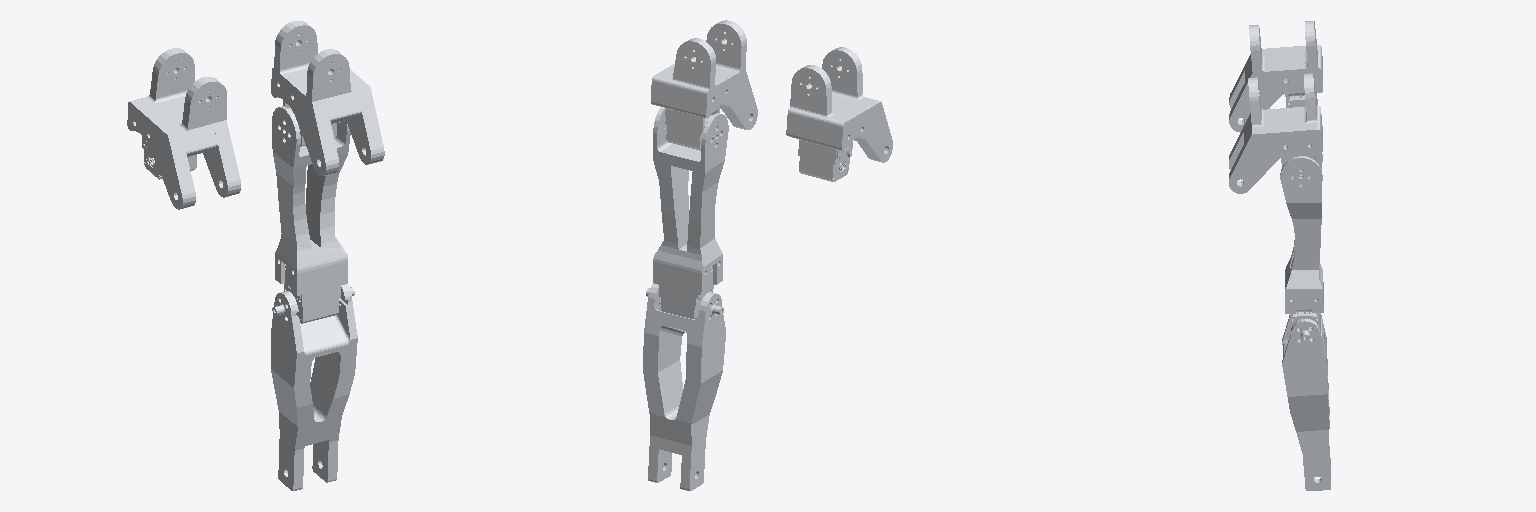
URDF robot description (LegAssemb):
<?xml version="1.0" encoding="utf-8"?>
<!-- This URDF was automatically created by SolidWorks to URDF Exporter! Originally created by [author] ([email redacted]) 
     Commit Version: 1.6.0-4-g7f85cfe  Build Version: 1.6.7995.38578
     For more information, please see http://wiki.ros.org/sw_urdf_exporter -->
<robot
  name="LegAssemb">
  <link
    name="base_link">
    <inertial>
      <origin
        xyz="0.20863304193815 0.0692641832716312 0.0477667457964067"
        rpy="0 0 0" />
      <mass
        value="1.03430056883378" />
      <inertia
        ixx="0.000426202931707901"
        ixy="-6.37572571128734E-08"
        ixz="7.59328755496436E-07"
        iyy="0.000441208001518973"
        iyz="-3.35829294154745E-06"
        izz="0.000480922227947212" />
    </inertial>
    <visual>
      <origin
        xyz="0 0 0"
        rpy="0 0 0" />
      <geometry>
        <mesh
          filename="package://LegAssemb/meshes/base_link.STL" />
      </geometry>
      <material
        name="">
        <color
          rgba="0.537254901960784 0.349019607843137 0.337254901960784 1" />
      </material>
    </visual>
    <collision>
      <origin
        xyz="0 0 0"
        rpy="0 0 0" />
      <geometry>
        <mesh
          filename="package://LegAssemb/meshes/base_link.STL" />
      </geometry>
    </collision>
  </link>
  <link
    name="Rhip">
    <inertial>
      <origin
        xyz="0.0074338003427552 -0.03242460499818 -0.0413705809848454"
        rpy="0 0 0" />
      <mass
        value="0.791055479855578" />
      <inertia
        ixx="0.000581069817188938"
        ixy="3.12546765976489E-05"
        ixz="-1.06166101215604E-05"
        iyy="0.000520936540159175"
        iyz="0.000131765521570148"
        izz="0.000403166157498855" />
    </inertial>
    <visual>
      <origin
        xyz="0 0 0"
        rpy="0 0 0" />
      <geometry>
        <mesh
          filename="package://LegAssemb/meshes/Rhip.STL" />
      </geometry>
      <material
        name="">
        <color
          rgba="0.894117647058823 0.913725490196078 0.929411764705882 1" />
      </material>
    </visual>
    <collision>
      <origin
        xyz="0 0 0"
        rpy="0 0 0" />
      <geometry>
        <mesh
          filename="package://LegAssemb/meshes/Rhip.STL" />
      </geometry>
    </collision>
  </link>
  <joint
    name="Rhipjoint"
    type="revolute">
    <origin
      xyz="0.25863 0.019512 0.043363"
      rpy="1.6546 -0.010502 -0.0008818" />
    <parent
      link="base_link" />
    <child
      link="Rhip" />
    <axis
      xyz="0 0 1" />
    <limit
      lower="0"
      upper="0"
      effort="0"
      velocity="0" />
  </joint>
  <link
    name="Rthigh">
    <inertial>
      <origin
        xyz="0.00769763457059242 -0.0627833558542452 -0.00175255976281827"
        rpy="0 0 0" />
      <mass
        value="0.712335305464064" />
      <inertia
        ixx="0.000983959344200403"
        ixy="-4.25123957402627E-06"
        ixz="-3.6167341359152E-07"
        iyy="0.000181029415635686"
        iyz="1.04992326956344E-05"
        izz="0.00106202448686337" />
    </inertial>
    <visual>
      <origin
        xyz="0 0 0"
        rpy="0 0 0" />
      <geometry>
        <mesh
          filename="package://LegAssemb/meshes/Rthigh.STL" />
      </geometry>
      <material
        name="">
        <color
          rgba="0.894117647058823 0.913725490196078 0.929411764705882 1" />
      </material>
    </visual>
    <collision>
      <origin
        xyz="0 0 0"
        rpy="0 0 0" />
      <geometry>
        <mesh
          filename="package://LegAssemb/meshes/Rthigh.STL" />
      </geometry>
    </collision>
  </link>
  <joint
    name="Rthighjoint"
    type="revolute">
    <origin
      xyz="0 -0.063879 -0.05994"
      rpy="-0.064356 0 0" />
    <parent
      link="Rhip" />
    <child
      link="Rthigh" />
    <axis
      xyz="1 0 0" />
    <limit
      lower="0"
      upper="0"
      effort="0"
      velocity="0" />
  </joint>
  <link
    name="Rshank">
    <inertial>
      <origin
        xyz="0.00990000014913311 -0.0634251797510051 0.00121806422284944"
        rpy="0 0 0" />
      <mass
        value="0.971159074392089" />
      <inertia
        ixx="0.00143380462653115"
        ixy="-1.4053596770111E-11"
        ixz="2.5384569405794E-11"
        iyy="0.000326466882017216"
        iyz="-1.21406567523206E-05"
        izz="0.00160808162772235" />
    </inertial>
    <visual>
      <origin
        xyz="0 0 0"
        rpy="0 0 0" />
      <geometry>
        <mesh
          filename="package://LegAssemb/meshes/Rshank.STL" />
      </geometry>
      <material
        name="">
        <color
          rgba="0.894117647058823 0.913725490196078 0.929411764705882 1" />
      </material>
    </visual>
    <collision>
      <origin
        xyz="0 0 0"
        rpy="0 0 0" />
      <geometry>
        <mesh
          filename="package://LegAssemb/meshes/Rshank.STL" />
      </geometry>
    </collision>
  </link>
  <joint
    name="Rshankjoint"
    type="revolute">
    <origin
      xyz="0 -0.14107 -0.0005"
      rpy="0.056452 0 0" />
    <parent
      link="Rthigh" />
    <child
      link="Rshank" />
    <axis
      xyz="1 0 0" />
    <limit
      lower="0"
      upper="0"
      effort="0"
      velocity="0" />
  </joint>
  <link
    name="Lhip">
    <inertial>
      <origin
        xyz="0.00748818071289314 -0.0324246050220238 0.041370668212364"
        rpy="0 0 0" />
      <mass
        value="0.791055476960042" />
      <inertia
        ixx="0.000581069816124814"
        ixy="3.12546762715253E-05"
        ixz="1.06166686901471E-05"
        iyy="0.000520936538406736"
        iyz="-0.000131765341329327"
        izz="0.000403166156815968" />
    </inertial>
    <visual>
      <origin
        xyz="0 0 0"
        rpy="0 0 0" />
      <geometry>
        <mesh
          filename="package://LegAssemb/meshes/Lhip.STL" />
      </geometry>
      <material
        name="">
        <color
          rgba="0.894117647058823 0.913725490196078 0.929411764705882 1" />
      </material>
    </visual>
    <collision>
      <origin
        xyz="0 0 0"
        rpy="0 0 0" />
      <geometry>
        <mesh
          filename="package://LegAssemb/meshes/Lhip.STL" />
      </geometry>
    </collision>
  </link>
  <joint
    name="Lhipjoint"
    type="revolute">
    <origin
      xyz="0.15864 0.020144 0.044806"
      rpy="1.487 0.023951 3.1396" />
    <parent
      link="base_link" />
    <child
      link="Lhip" />
    <axis
      xyz="0 0 1" />
    <limit
      lower="0"
      upper="0"
      effort="0"
      velocity="0" />
  </joint>
</robot>

--- Facts derived from the render (not from the file) ---
3 views of the same robot in one strip: view 1: azimuth 30°, elevation 25°; view 2: azimuth 150°, elevation 25°; view 3: azimuth 270°, elevation 25° (orthographic).
Model LegAssemb with 5 links and 4 joints (4 revolute), rooted at base_link, posed every joint at zero.
Links seen in each view (by area): view 1: Rshank, Lhip, Rthigh, Rhip; view 2: Rshank, Rthigh, Lhip, Rhip; view 3: Rshank, Rhip, Rthigh, Lhip.
Boxes of the visible links, bbox=[...] form: Rshank: bbox=[271, 284, 357, 490]; Lhip: bbox=[127, 48, 240, 209]; Rthigh: bbox=[272, 106, 350, 323]; Rhip: bbox=[271, 20, 384, 175]; Rshank: bbox=[643, 283, 725, 490]; Rthigh: bbox=[653, 107, 728, 318]; Lhip: bbox=[786, 47, 892, 181]; Rhip: bbox=[651, 20, 757, 150]; Rshank: bbox=[1282, 313, 1330, 490]; Rhip: bbox=[1229, 73, 1322, 193]; Rthigh: bbox=[1280, 154, 1323, 338]; Lhip: bbox=[1229, 21, 1322, 132].
Size in the robot's own frame: 0.1766 by 0.0851 by 0.3672 metres.
4 mesh visuals loaded from 5 distinct referenced files (4 binary STL); not drawn: 1 (reference not matched to a file when rendering).
